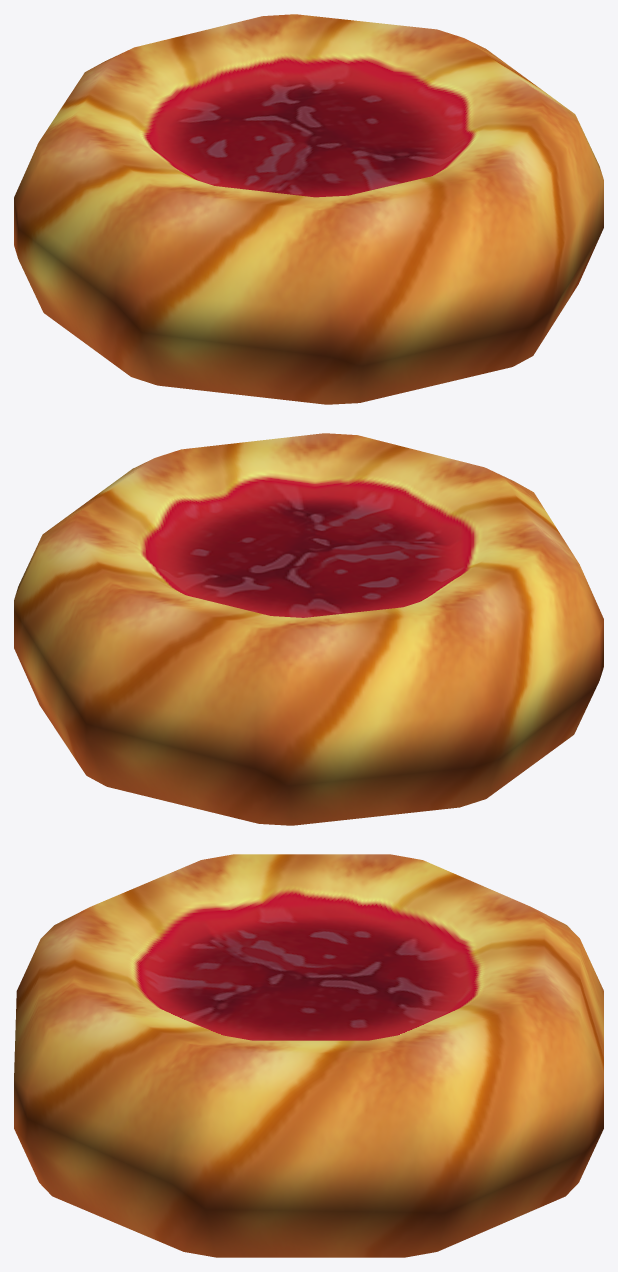
File: 010-Danishes1.FBX
3 renders of one model, top to bottom at view 1: azimuth 30°, elevation 25°; view 2: azimuth 150°, elevation 25°; view 3: azimuth 270°, elevation 25°, orthographic. The views are drawn at different scales.
Parts seen in each view (by area): view 1: 010-Danishes1; view 2: 010-Danishes1; view 3: 010-Danishes1.
Boxes of the visible parts, box(x1,y1,x2,y2) form: 010-Danishes1: box(14, 14, 603, 404); 010-Danishes1: box(14, 433, 603, 825); 010-Danishes1: box(14, 854, 603, 1257).
Bounding box in the file's own units: 16.15 × 6.01 × 16.14.
